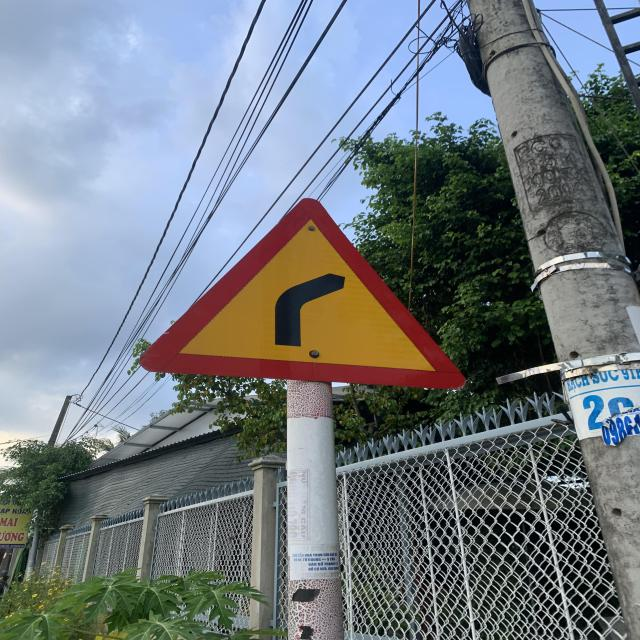Duong_Nguoi_Di_Bo_Cat_Ngang: (134, 194, 470, 390)
